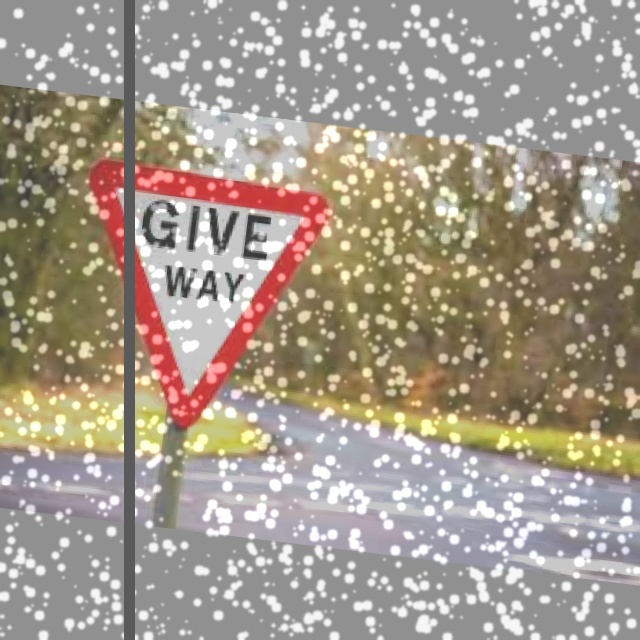Give_Way: (69, 165, 323, 429)
